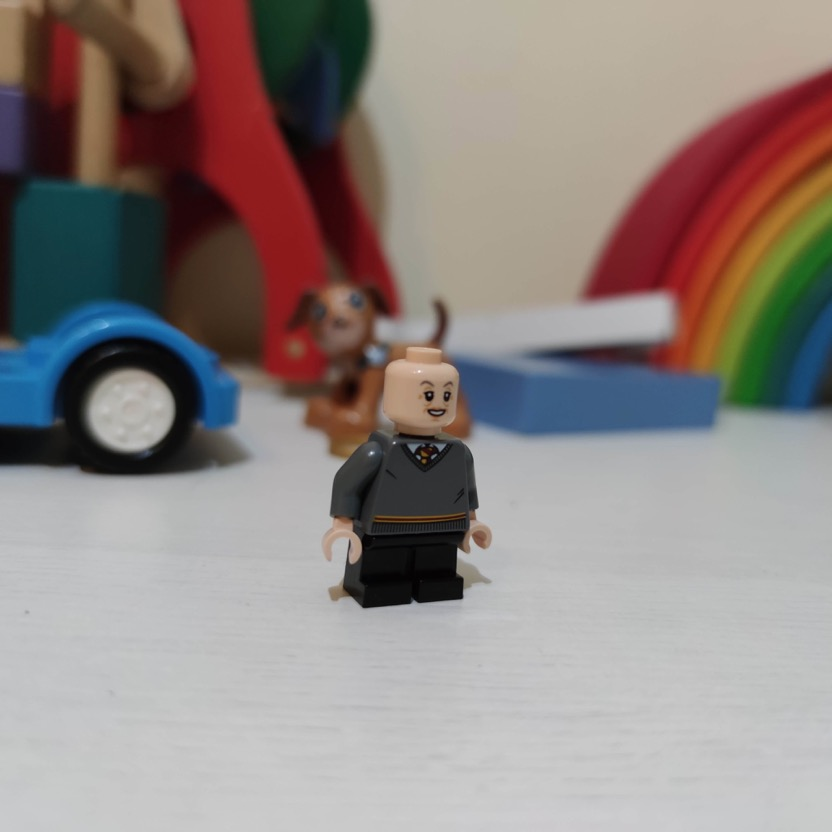lego: (324, 346, 492, 609)
